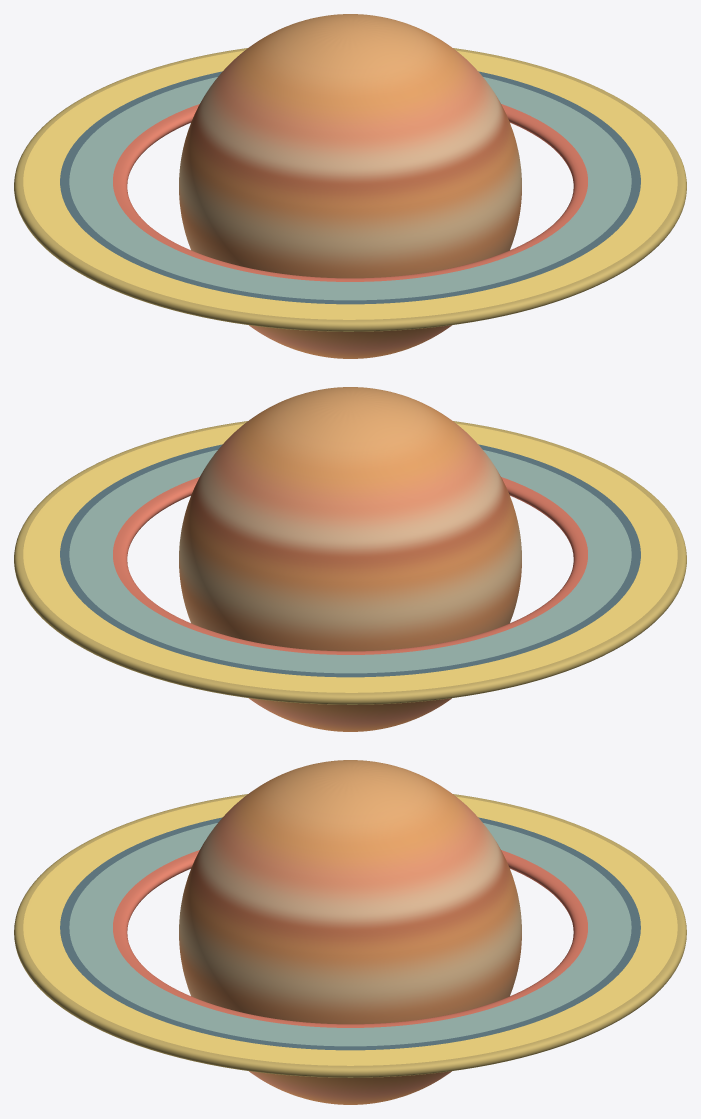
Rendered from Saturn 2.glb.
3 renders of one model, top to bottom at view 1: azimuth 30°, elevation 25°; view 2: azimuth 150°, elevation 25°; view 3: azimuth 270°, elevation 25°, orthographic.
Visible parts, largest first — view 1: Sphere, Circle; view 2: Sphere, Circle; view 3: Sphere, Circle.
Part boxes in pixels (x1,y1,x2,y2): Sphere: [179, 14, 521, 358]; Circle: [14, 48, 686, 331]; Sphere: [179, 387, 521, 731]; Circle: [14, 421, 686, 704]; Sphere: [179, 760, 521, 1104]; Circle: [14, 794, 686, 1077].
Bounding box in the file's own units: 6.2 × 3.19 × 6.2.
Materials: 6 (1 with a texture image).
